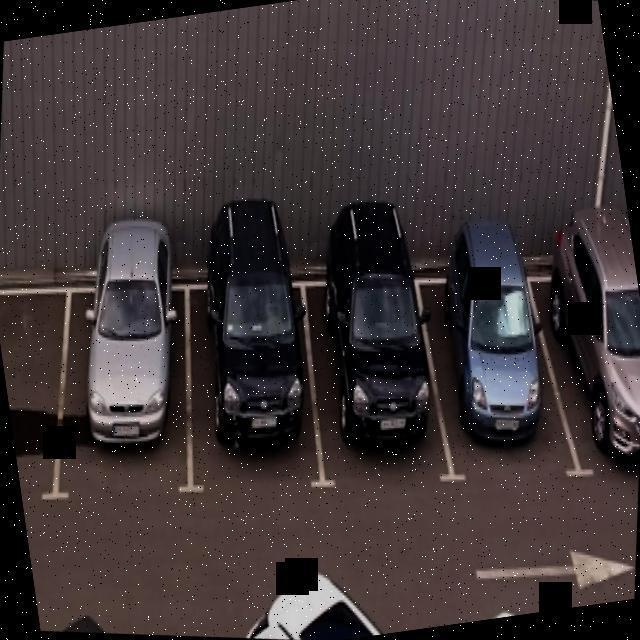car: (398, 223, 586, 489), (164, 233, 332, 513), (286, 211, 456, 484), (37, 267, 209, 517), (517, 207, 640, 486)
